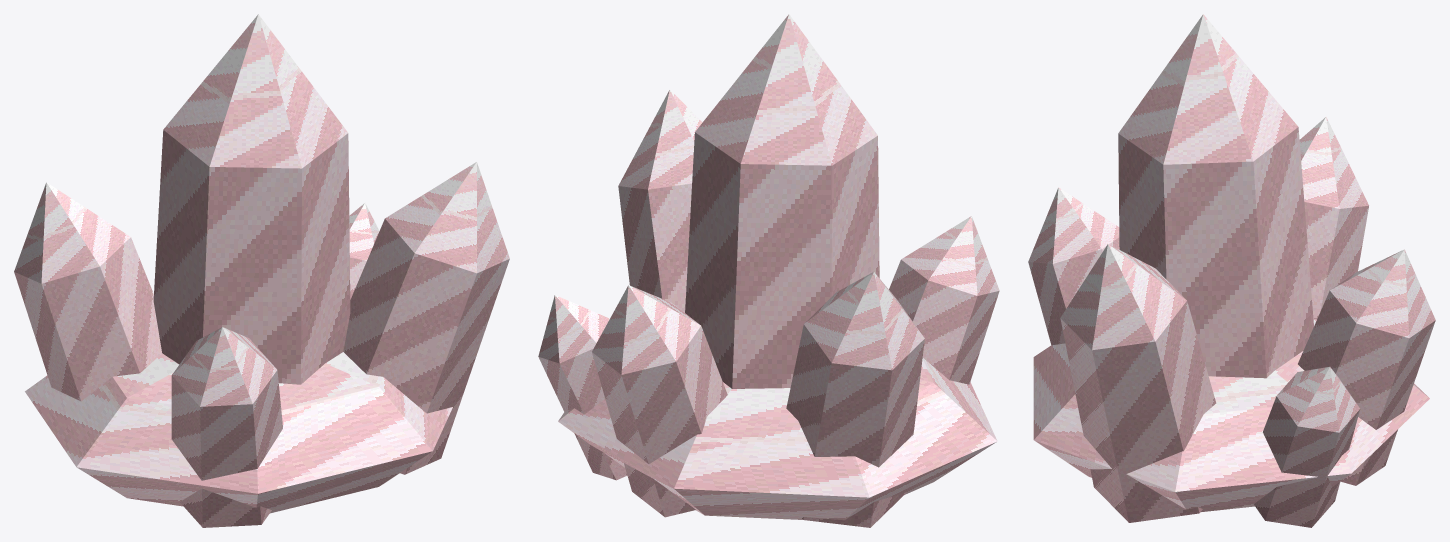
File: sal_gema.glb
3 renders of one model, left to right at view 1: azimuth 30°, elevation 25°; view 2: azimuth 150°, elevation 25°; view 3: azimuth 270°, elevation 25°, orthographic. The views are drawn at different scales.
Parts seen in each view (by area): view 1: sal_gema; view 2: sal_gema; view 3: sal_gema.
Boxes of the visible parts, x1,y1,x2,y2 form: sal_gema: (14,14,509,527); sal_gema: (538,14,999,527); sal_gema: (1028,14,1435,527).
Size of the model in its own units: 0.8816 by 0.9964 by 0.8114.
1 material, 1 textured.
